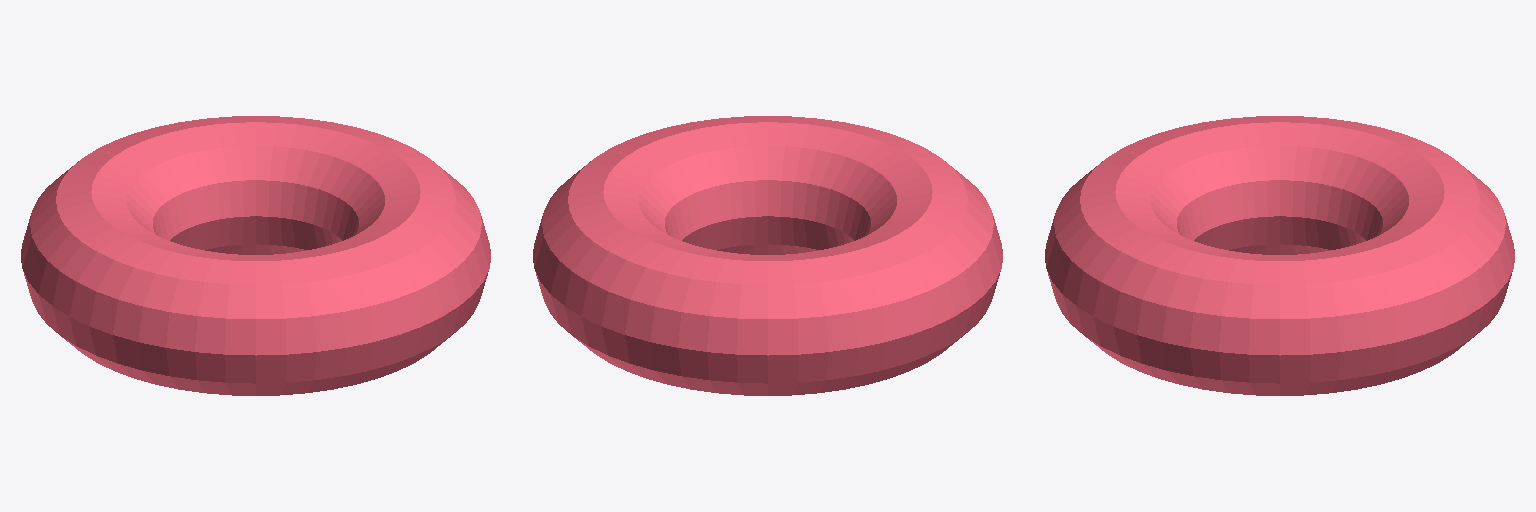
File: cgsg_tor.obj
3 renders of one model, left to right at view 1: azimuth 30°, elevation 25°; view 2: azimuth 150°, elevation 25°; view 3: azimuth 270°, elevation 25°, orthographic.
Visible parts, largest first — view 1: Torus.001; view 2: Torus.001; view 3: Torus.001.
Part boxes in pixels (x1,y1,x2,y2): Torus.001: (21, 116, 490, 395); Torus.001: (533, 116, 1002, 395); Torus.001: (1045, 116, 1514, 395).
Size of the model in its own units: 2.86 by 0.86 by 2.86.